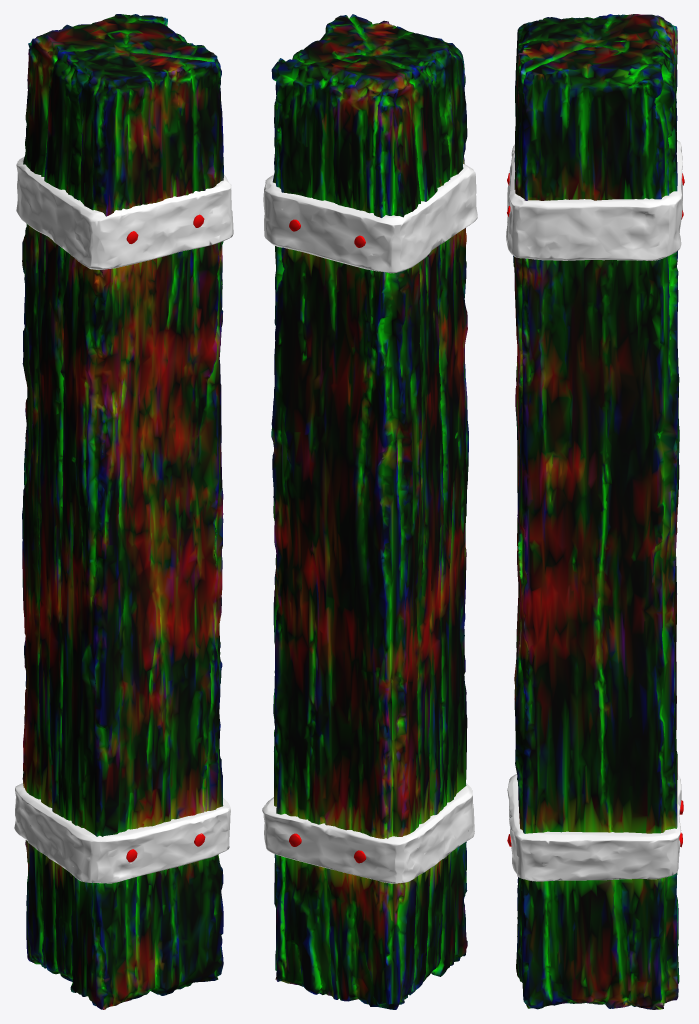
The model's file is SM_Wood_Pillar_02.fbx.
3 renders of one model, left to right at view 1: azimuth 30°, elevation 25°; view 2: azimuth 150°, elevation 25°; view 3: azimuth 270°, elevation 25°, orthographic.
Visible parts, largest first — view 1: SM_Wood_Pillar_02_LOD0; view 2: SM_Wood_Pillar_02_LOD0; view 3: SM_Wood_Pillar_02_LOD0.
Part boxes in pixels (x1,y1,x2,y2): SM_Wood_Pillar_02_LOD0: (14,14,233,1009); SM_Wood_Pillar_02_LOD0: (262,14,477,1009); SM_Wood_Pillar_02_LOD0: (506,14,684,1009).
Bounding box in the file's own units: 53.2 × 52.5 × 305.
